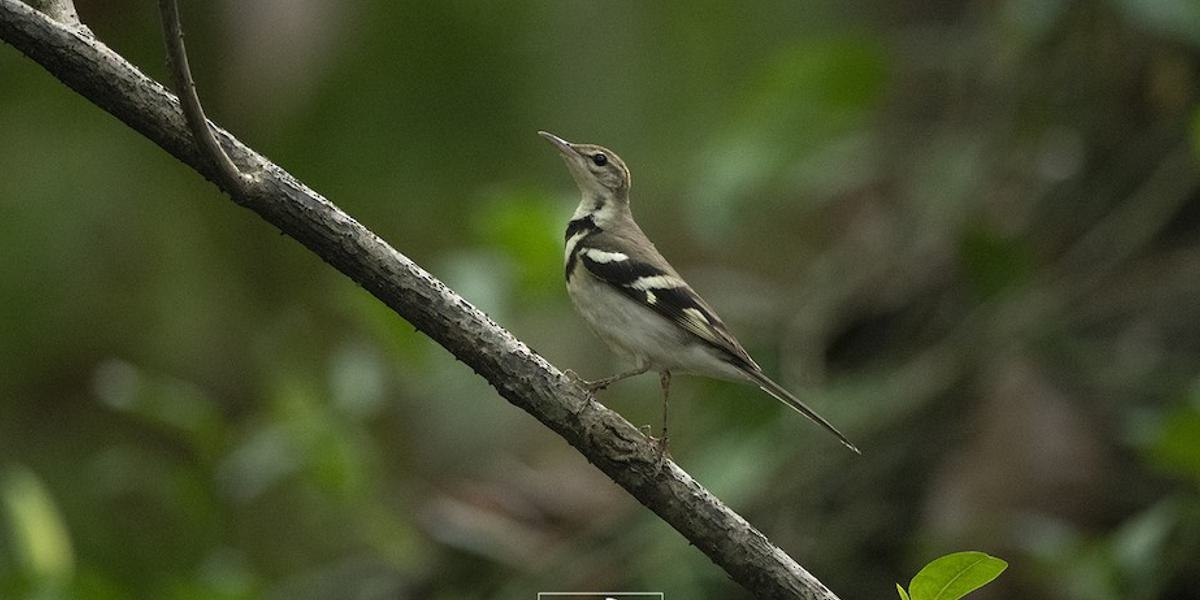wagtail: (497, 110, 833, 465)
